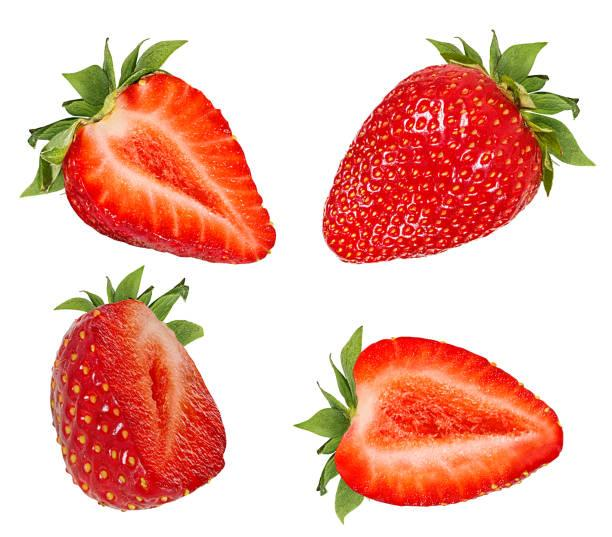strawberry: (314, 20, 592, 278), (14, 35, 291, 273), (302, 311, 572, 535), (31, 258, 242, 513)
